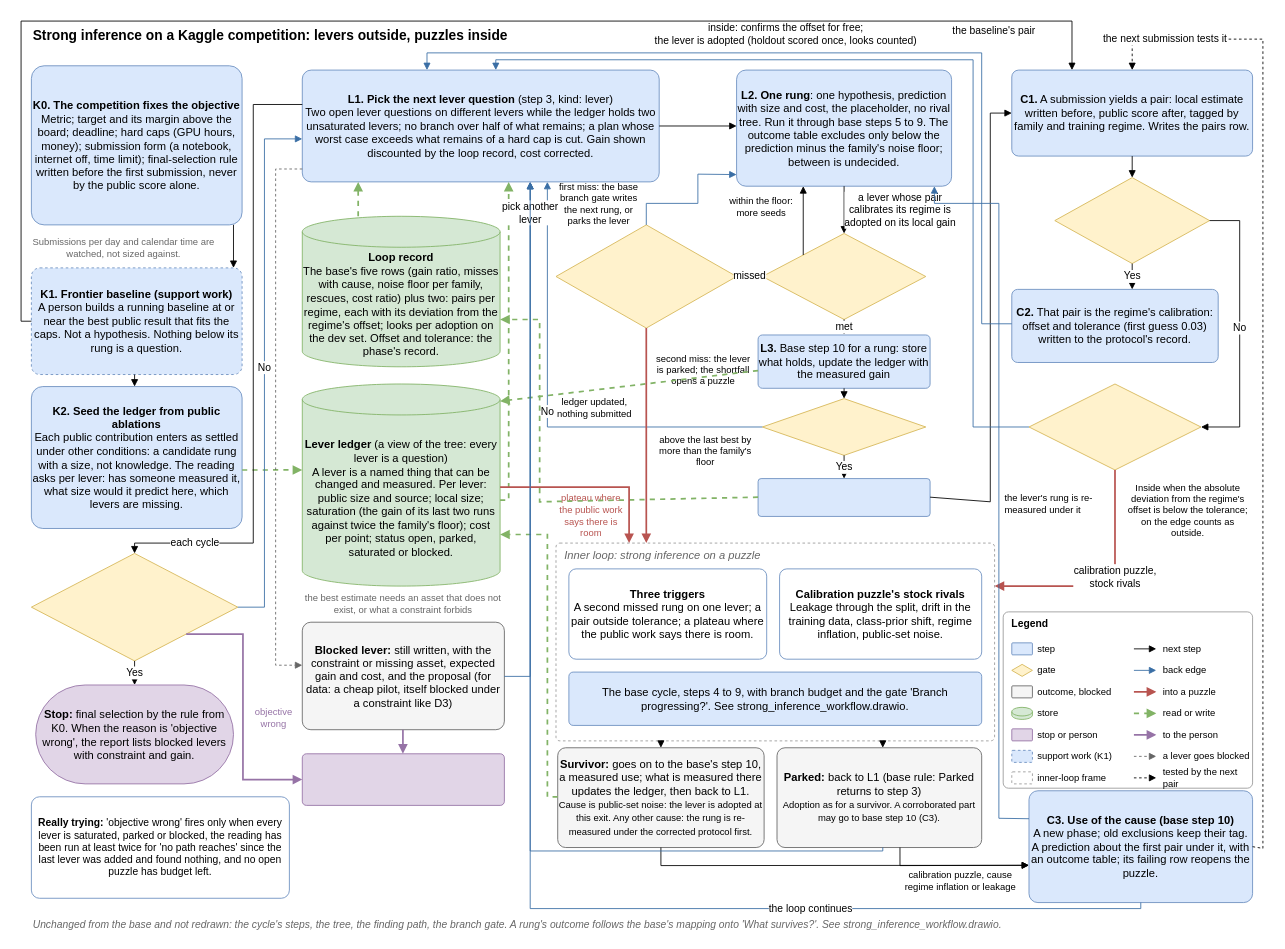
Image size: 1285x949. Some labels were removed from this diagram. Each missing label, with the centre of its shape:
First pair in this regime?: pixel 1132 220
Inside tolerance?: pixel 1114 426
L4. Submit the new local best: pixel 843 497
New local best?: pixel 844 426
Objective met, budget spent, or objective wrong?: pixel 134 607
Person: lift a constraint, lower the target, or stop: pixel 402 779
Second missed rung on the same lever?: pixel 646 276
What survives? (this rung): pixel 844 276
